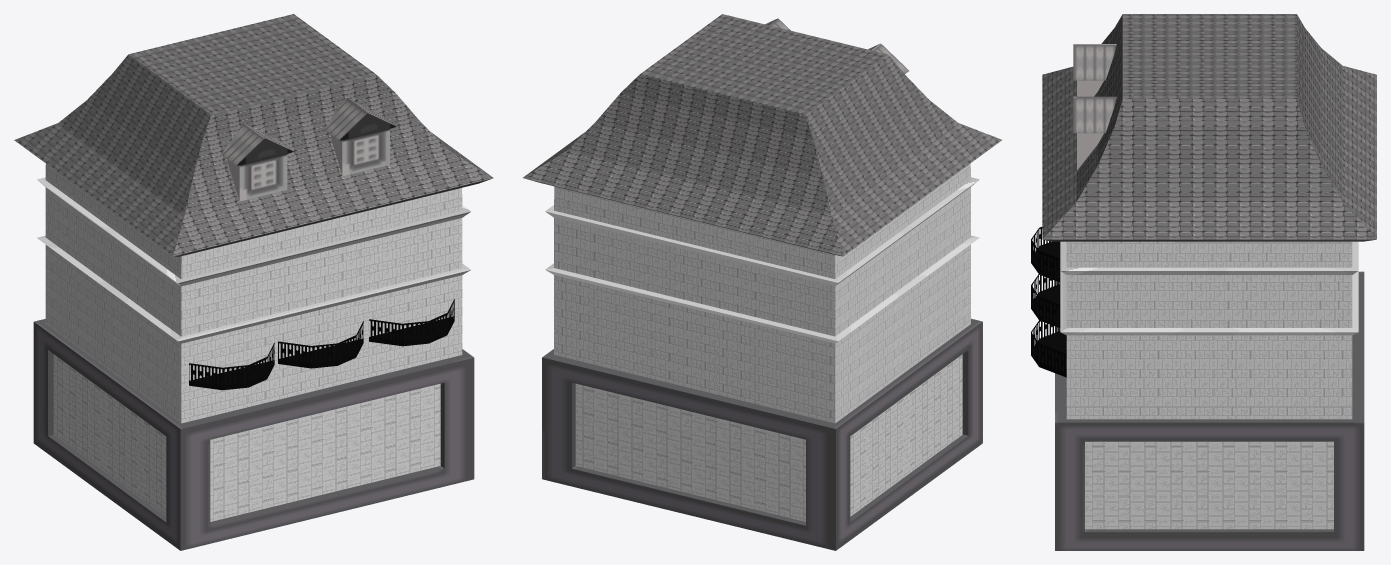
Rendered from Predios.fbx.
3 renders of one model, left to right at view 1: azimuth 30°, elevation 25°; view 2: azimuth 150°, elevation 25°; view 3: azimuth 270°, elevation 25°, orthographic. The views are drawn at different scales.
Parts seen in each view (by area): view 1: Cube; view 2: Cube; view 3: Cube.
Part boxes in pixels (x1,y1,x2,y2): Cube: (14,14,493,550); Cube: (523,14,1001,550); Cube: (1031,14,1376,550).
Bounding box in the file's own units: 1801 × 2129 × 1596.
5 materials, 5 textured.
